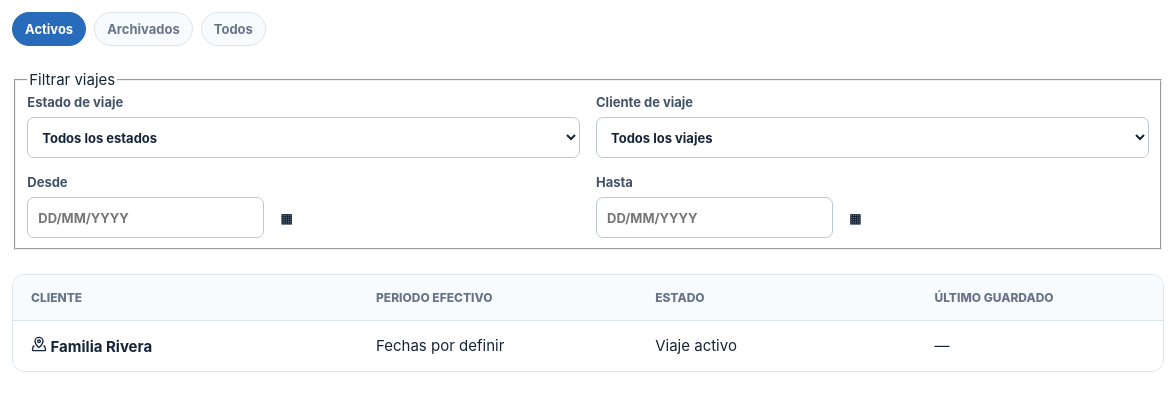
TripList › keeps archived trips accessible through the archive filter
This screenshot has width=1176, height=393.
Expected: the text "Familia Rivera" is shown once, [31, 336, 152, 356]
Click the button "Archivados" at [144, 29], box [94, 12, 193, 46]
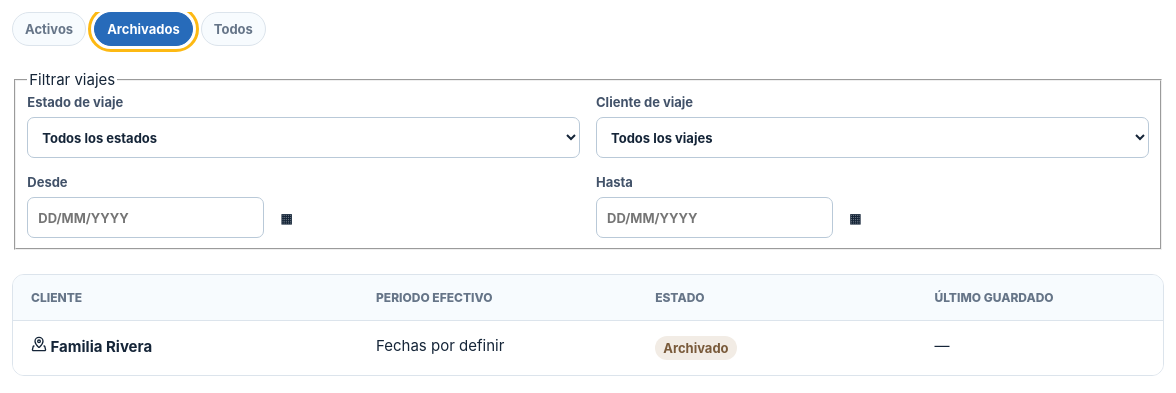
Expected: the text "Familia Rivera" is shown once, [31, 336, 152, 356]
Expected: the text "Archivado" is shown, [655, 336, 736, 360]
